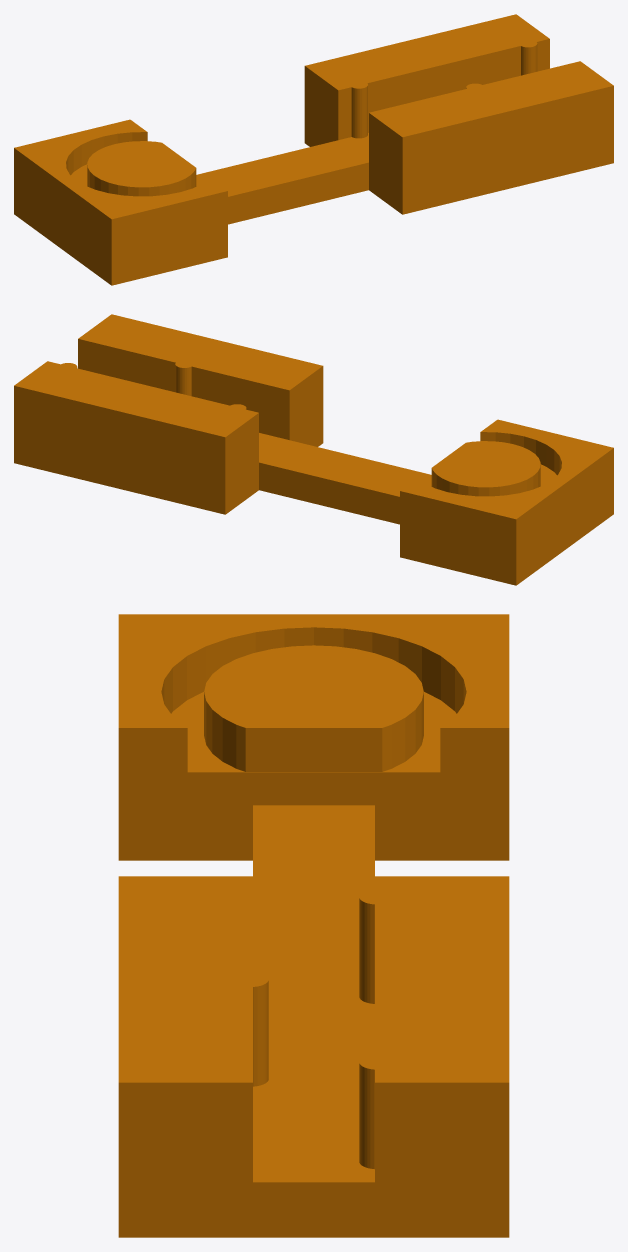
Rendered from JIG.glb.
3 views of the same model, one above another, from view 1: azimuth 30°, elevation 25°; view 2: azimuth 150°, elevation 25°; view 3: azimuth 270°, elevation 25° (orthographic). The views are drawn at different scales.
Parts seen in each view (by area): view 1: LED Filament soldering JIG3; view 2: LED Filament soldering JIG3; view 3: LED Filament soldering JIG3.
Part boxes in pixels (x1,y1,x2,y2): LED Filament soldering JIG3: [14, 14, 613, 285]; LED Filament soldering JIG3: [14, 314, 613, 585]; LED Filament soldering JIG3: [118, 614, 509, 1237].
Bounding box in the file's own units: 47.5 × 7 × 16.
